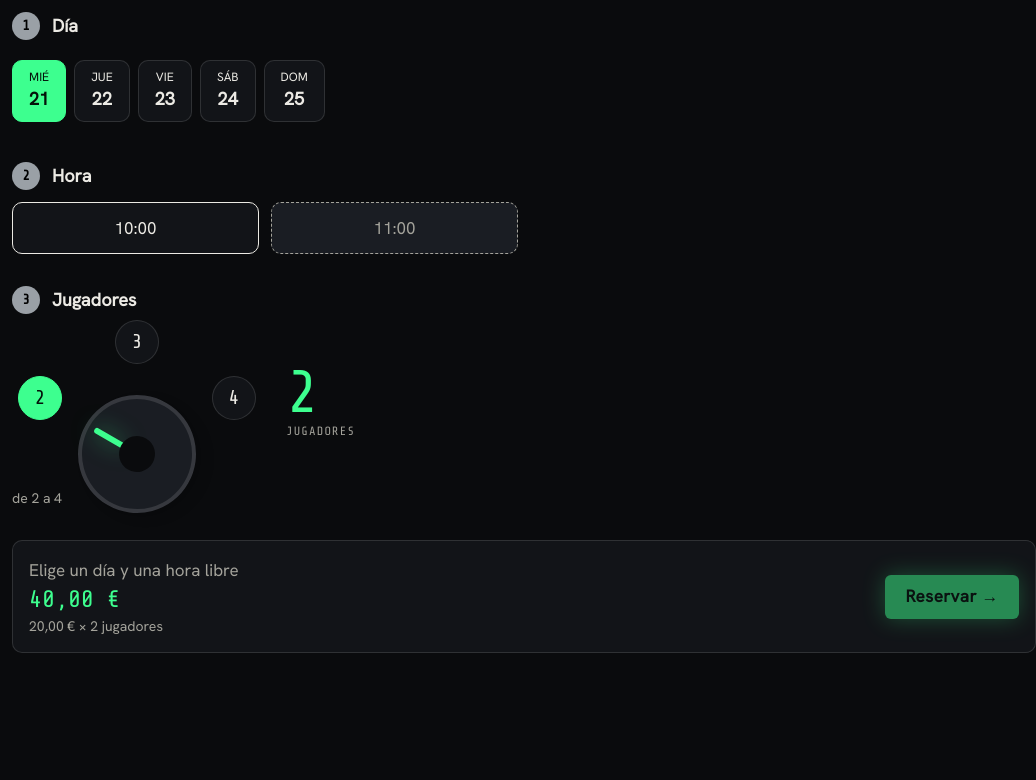
Scenario: Booker › starts the draft at the min players and keeps the chosen players in it
The image size is (1036, 780).
expect the element named "Hora" is shown: met, box x1=12 y1=202 x2=518 y2=254
Step 1. Click the button "4" → (234, 398), box x1=212 y1=376 x2=256 y2=420
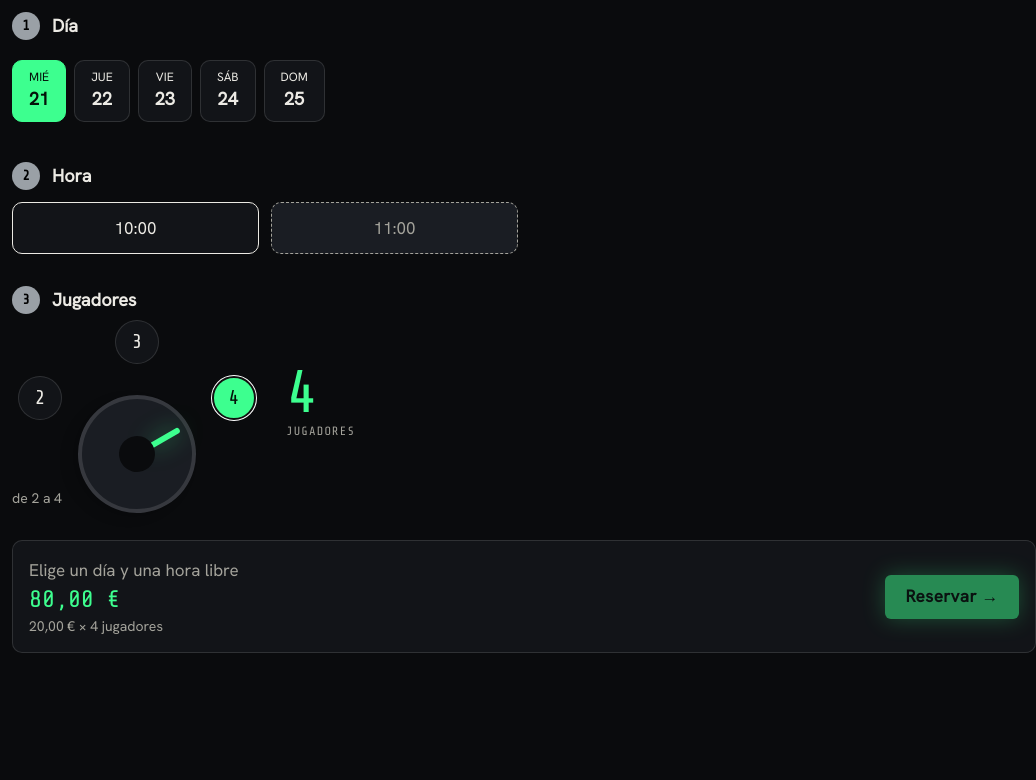
expect the text "80,00 €" is shown: met, box x1=29 y1=586 x2=120 y2=613
